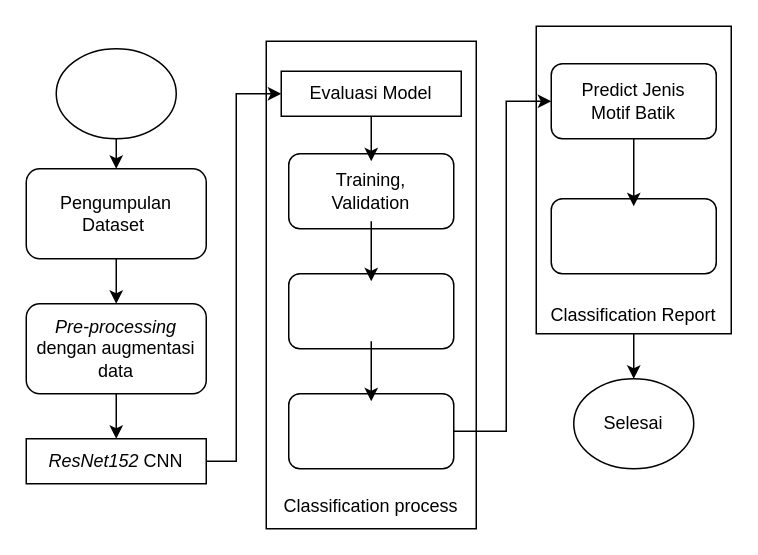
This 758x555 diagram has some shape labels left out. Here are the shapes that lost their labels. From the top down, the centre of each, then its label:
[115,93]: Mulai
[633,235]: Output Hasil Predict
[370,310]: Testing
[370,430]: Output Evaluasi Model
